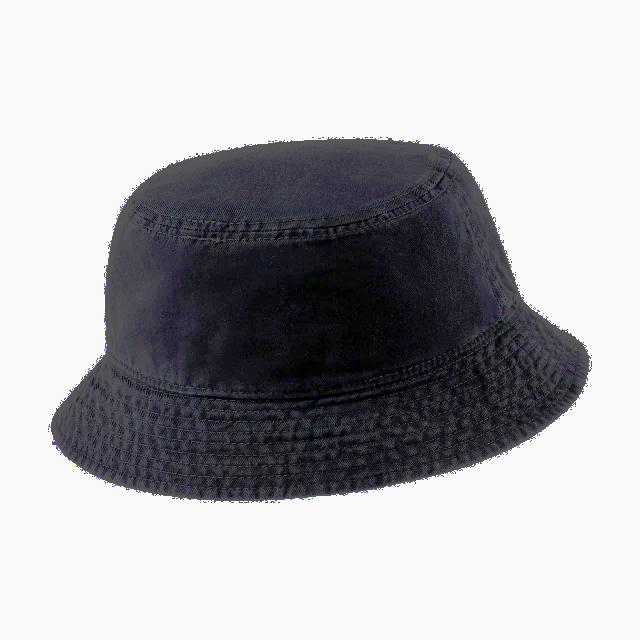TOPI: (42, 133, 594, 507)
